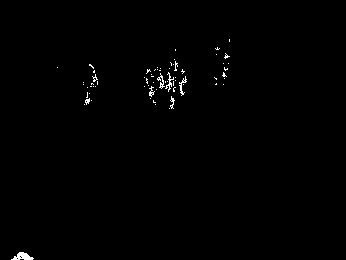person: (166, 56, 187, 110), (144, 64, 164, 105), (212, 45, 231, 88), (82, 62, 98, 105)
